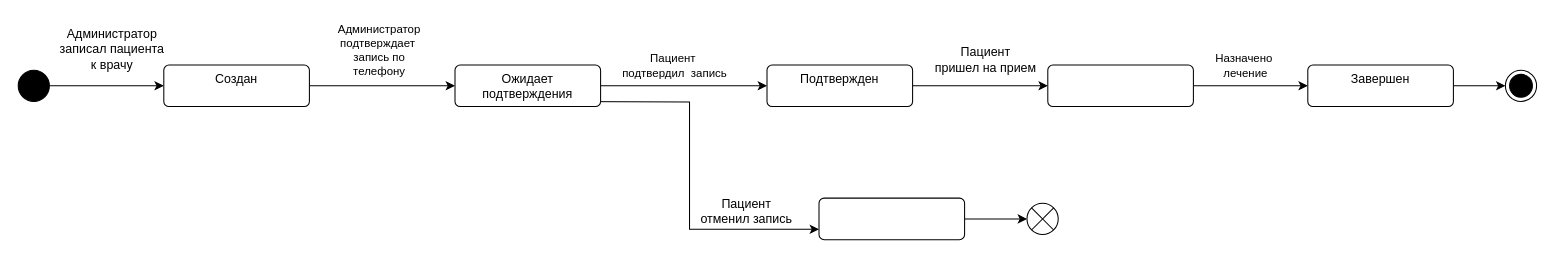
Image size: 1555x267. Some labels were removed from this diagram. Each missing label, with the centre of its shape:
В работе: the point at 1120,85
Отменен: the point at 891,218
